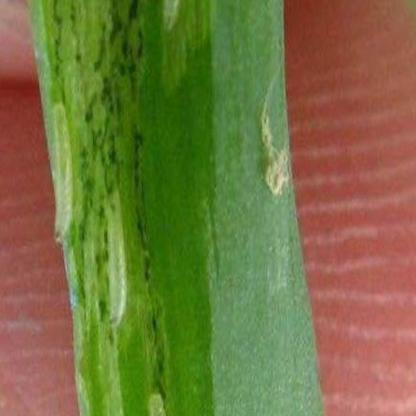whorl-maggot: (50, 89, 77, 251), (100, 181, 127, 333)
